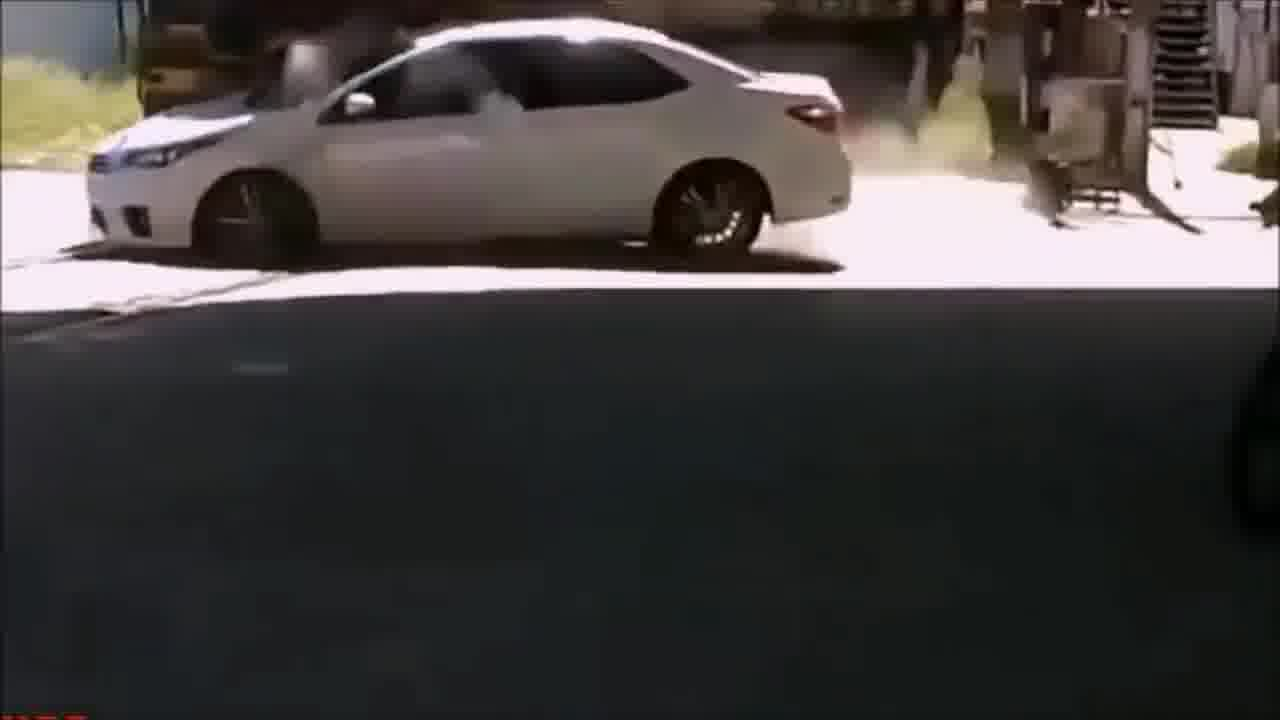crossing railway track: (58, 25, 863, 277)
